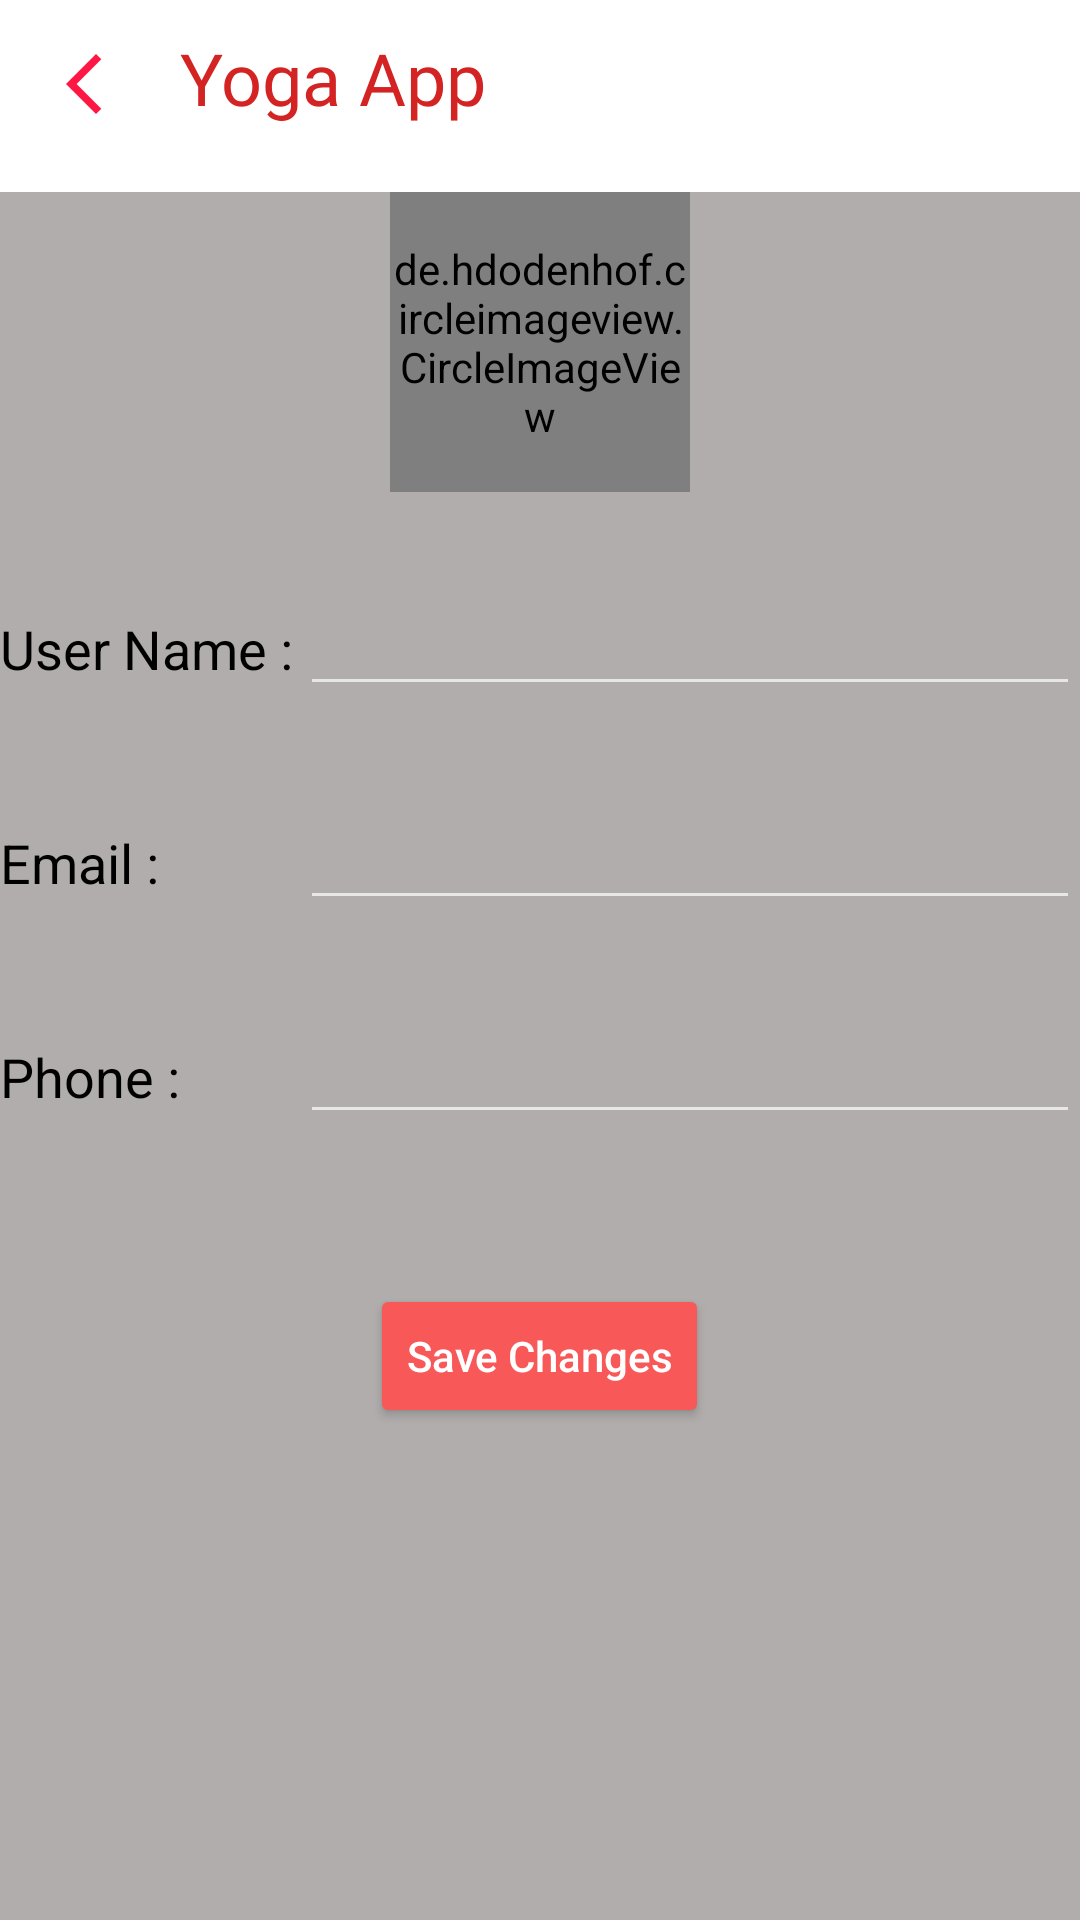

Locate icon controls on the screen. Image size 1080 x 1920, boxes as (x1, y1, x2, y2).
arrow back: (66, 54, 101, 114)
